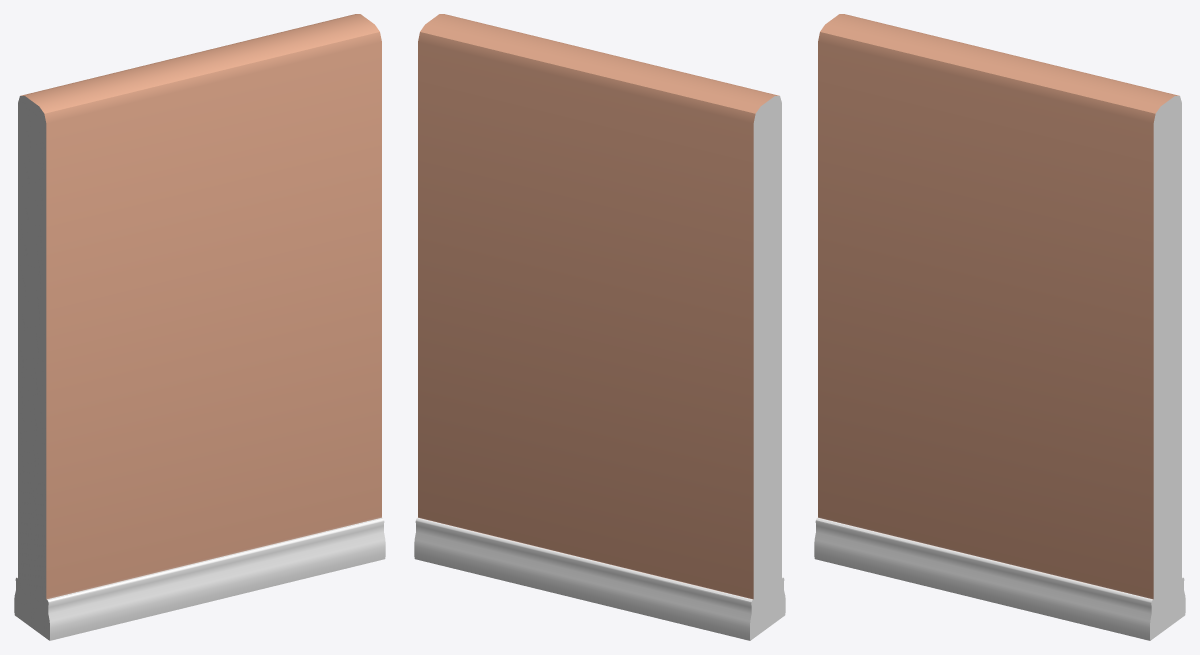
The model's file is Wall_inner_Flat_02.fbx.
The picture shows the model from 3 angles, left to right: view 1: azimuth 30°, elevation 25°; view 2: azimuth 150°, elevation 25°; view 3: azimuth 330°, elevation 25°; orthographic projection.
Visible parts, largest first — view 1: InnerWall_Hor_00.001; view 2: InnerWall_Hor_00.001; view 3: InnerWall_Hor_00.001.
Part boxes in pixels (x1=…): InnerWall_Hor_00.001: x1=14, y1=14, x2=385, y2=640; InnerWall_Hor_00.001: x1=414, y1=14, x2=785, y2=640; InnerWall_Hor_00.001: x1=814, y1=14, x2=1185, y2=640.
Size of the model in its own units: 99.99 by 150 by 18.49.
